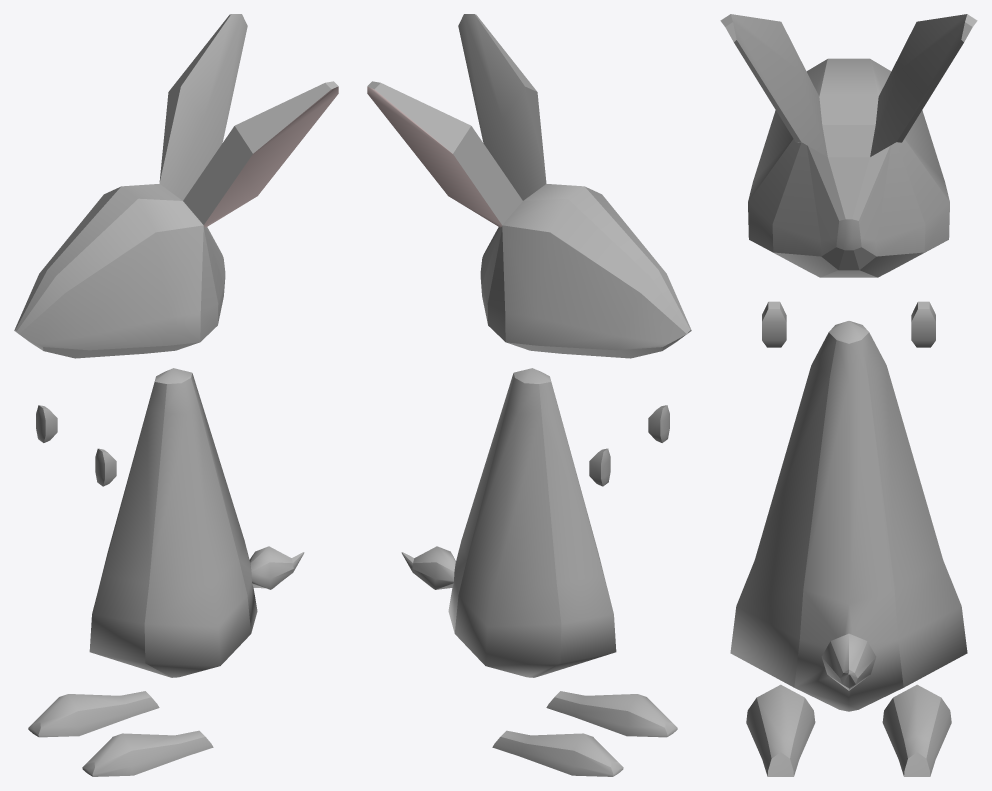
File: Rabbit_Avatar.fbx
3 renders of one model, left to right at view 1: azimuth 30°, elevation 25°; view 2: azimuth 150°, elevation 25°; view 3: azimuth 270°, elevation 25°, orthographic. The views are drawn at different scales.
Visible parts, largest first — view 1: Rabbit_Head, Rabbit_Body, R_Foot, L_Foot, L_Hand, R_Hand; view 2: Rabbit_Head, Rabbit_Body, L_Foot, R_Foot, R_Hand, L_Hand; view 3: Rabbit_Body, Rabbit_Head, L_Foot, R_Foot, L_Hand, R_Hand.
Boxes of the visible parts, x1,y1,x2,y2 form: Rabbit_Head: (14,14,338,358); Rabbit_Body: (89,368,304,677); R_Foot: (28,691,159,737); L_Foot: (82,730,213,776); L_Hand: (95,448,116,486); R_Hand: (36,405,57,442); Rabbit_Head: (367,14,691,358); Rabbit_Body: (401,368,616,677); L_Foot: (546,691,677,737); R_Foot: (492,730,623,776); R_Hand: (589,448,610,486); L_Hand: (648,405,669,442); Rabbit_Body: (730,321,967,711); Rabbit_Head: (720,14,977,277); L_Foot: (746,684,815,776); R_Foot: (882,684,951,776); L_Hand: (762,301,786,347); R_Hand: (911,301,935,347).
Bounding box in the file's own units: 15.93 × 34.42 × 9.75.
